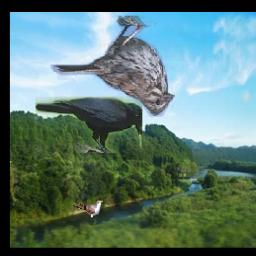Crow: (36, 98, 142, 154)
Cuckoo: (73, 201, 103, 218)
Sparrow: (50, 17, 175, 119)
